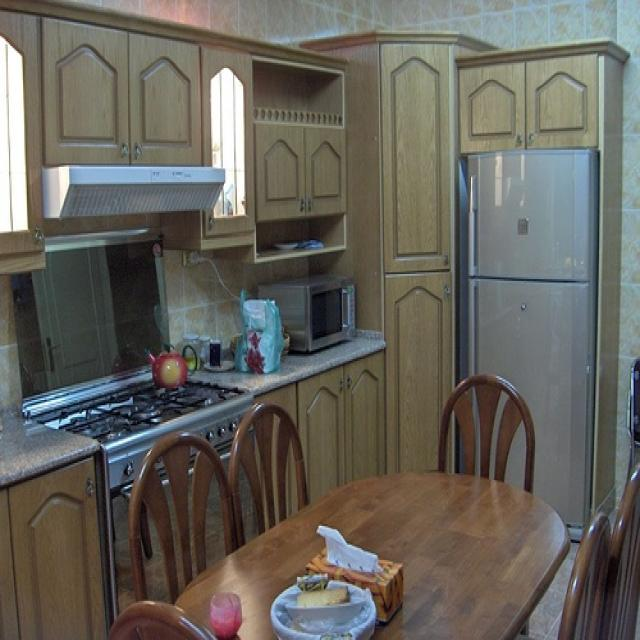chair: (128, 431, 237, 604), (226, 402, 308, 550), (437, 373, 535, 492), (557, 511, 612, 638), (599, 466, 639, 638), (107, 599, 219, 638)
diningtable: (172, 470, 570, 638)
